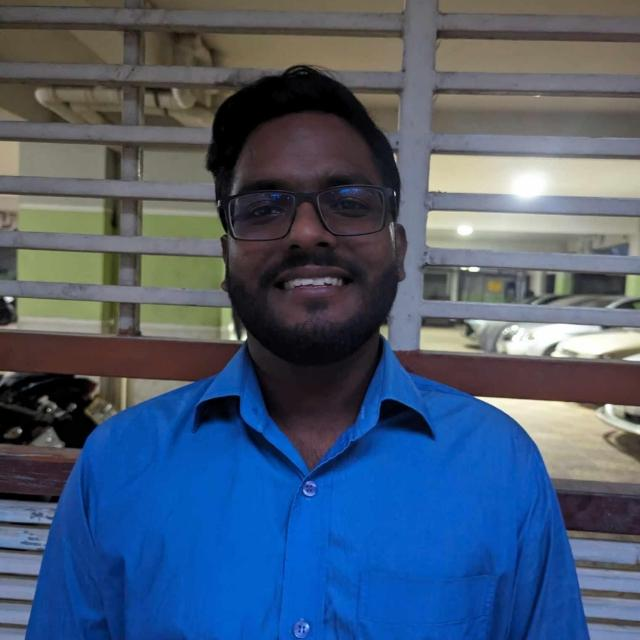Happy: (162, 74, 503, 513)
